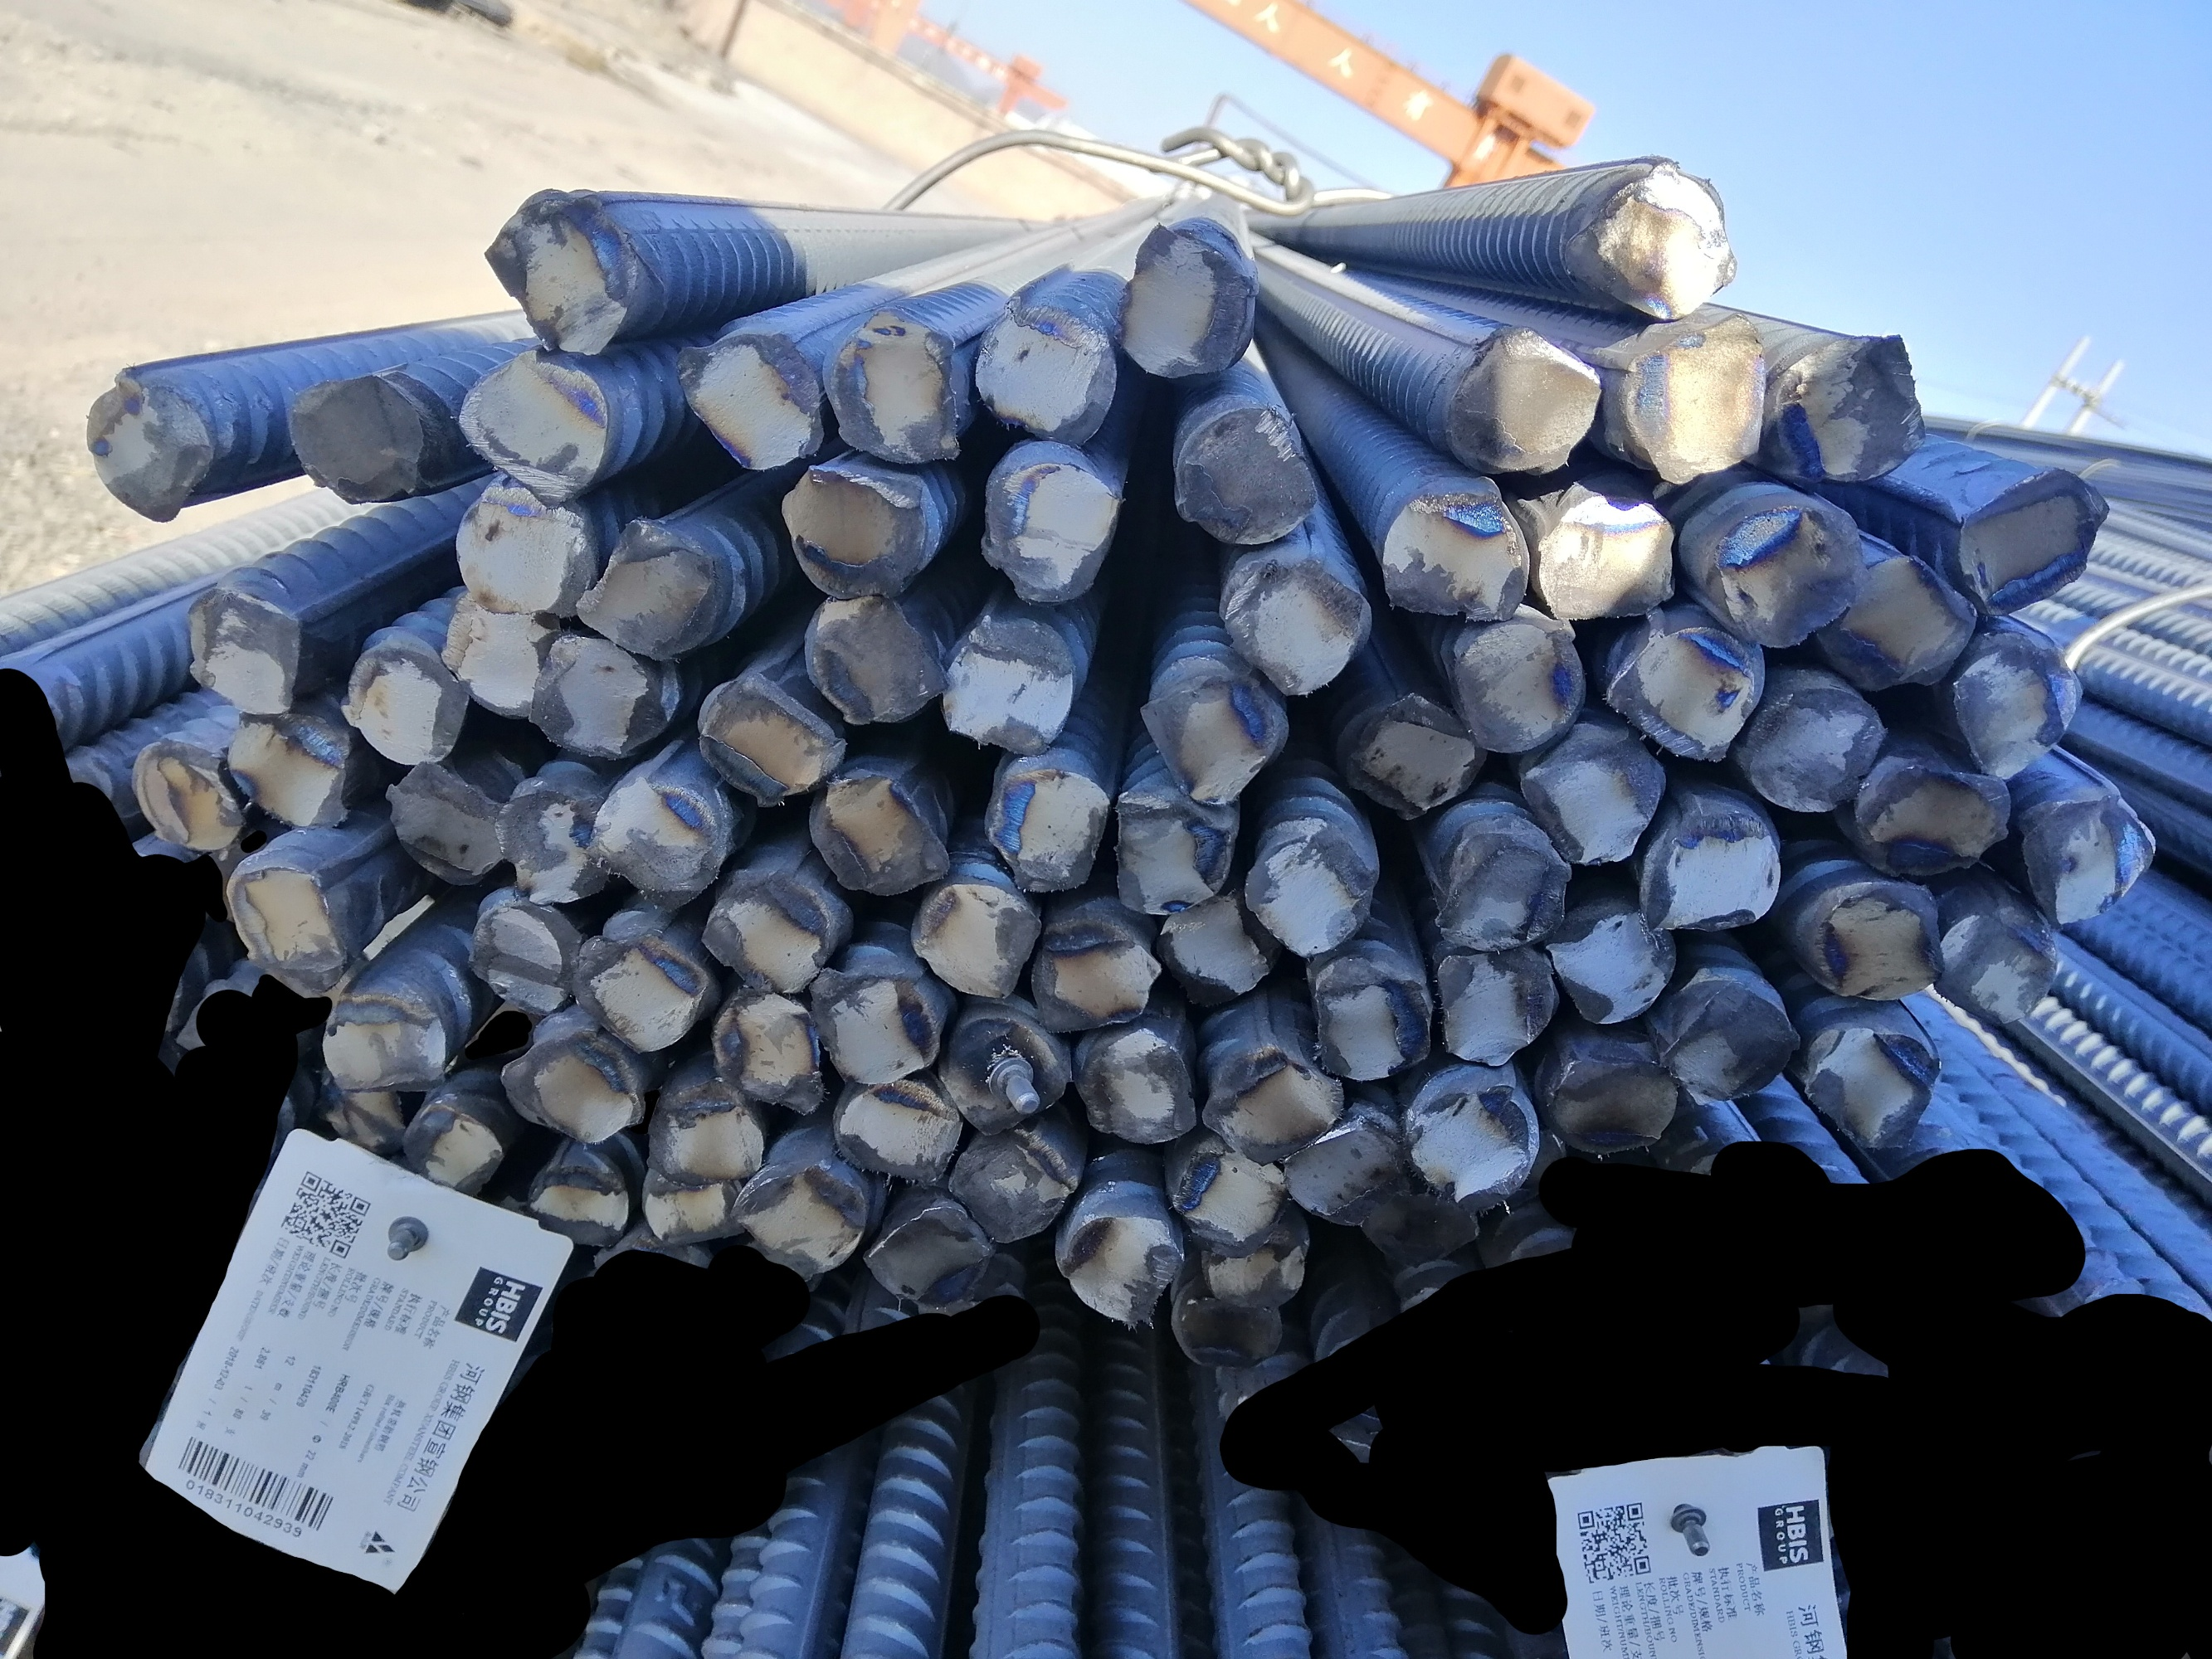rebar: (476, 186, 648, 359), (1590, 160, 1745, 322), (1626, 322, 1776, 490), (980, 437, 1124, 610), (1952, 458, 2106, 620), (1447, 324, 1600, 484), (462, 350, 614, 511), (824, 301, 966, 467), (1713, 504, 1865, 657), (668, 331, 826, 477), (444, 469, 594, 622), (78, 366, 214, 535), (1117, 221, 1255, 387), (777, 455, 929, 605), (1781, 328, 1924, 486), (1797, 1009, 1951, 1155), (1520, 716, 1665, 870), (1609, 622, 1762, 765), (978, 291, 1116, 448), (1947, 622, 2081, 782), (284, 364, 429, 512), (1379, 479, 1525, 622), (587, 767, 727, 917), (577, 518, 722, 660), (1175, 403, 1321, 544), (1447, 608, 1583, 760), (1855, 746, 2006, 880), (1830, 549, 1973, 690), (901, 861, 1041, 1004), (2012, 795, 2160, 929), (1532, 493, 1682, 626), (1140, 674, 1288, 807), (1633, 809, 1785, 938), (940, 622, 1081, 760), (811, 769, 959, 899), (1227, 561, 1367, 699), (1809, 866, 1949, 1004), (971, 755, 1109, 892), (1745, 680, 1888, 812), (800, 592, 947, 721), (523, 636, 675, 760), (174, 586, 312, 721), (1544, 894, 1680, 1032), (573, 922, 709, 1054), (1056, 1202, 1185, 1342), (1342, 697, 1485, 823), (699, 978, 831, 1112), (805, 957, 941, 1087), (1659, 978, 1802, 1101), (486, 779, 617, 913), (695, 871, 831, 1000), (1408, 1082, 1537, 1218), (1025, 918, 1166, 1042), (699, 683, 844, 803), (940, 1007, 1072, 1138), (734, 1162, 873, 1286), (1239, 829, 1370, 960), (380, 749, 506, 885), (499, 1033, 647, 1148), (1264, 1098, 1401, 1222), (1435, 828, 1572, 951), (1935, 901, 2066, 1030), (314, 979, 453, 1098), (1107, 789, 1236, 917), (432, 587, 556, 720), (342, 640, 467, 769), (225, 863, 349, 992), (223, 711, 352, 833), (1306, 958, 1435, 1080), (1433, 943, 1558, 1065), (126, 735, 249, 857), (831, 1070, 962, 1185), (1082, 1019, 1203, 1143), (1544, 1049, 1682, 1157), (955, 1127, 1077, 1246), (1152, 892, 1274, 1011), (634, 1077, 765, 1185), (1213, 1047, 1332, 1164), (863, 1199, 985, 1312), (399, 1098, 512, 1206), (465, 899, 570, 1016), (1163, 1283, 1292, 1373), (1171, 1145, 1279, 1253), (1363, 1178, 1487, 1267), (526, 1162, 640, 1249), (640, 1162, 750, 1251), (1203, 1230, 1314, 1310), (328, 1077, 422, 1162)
